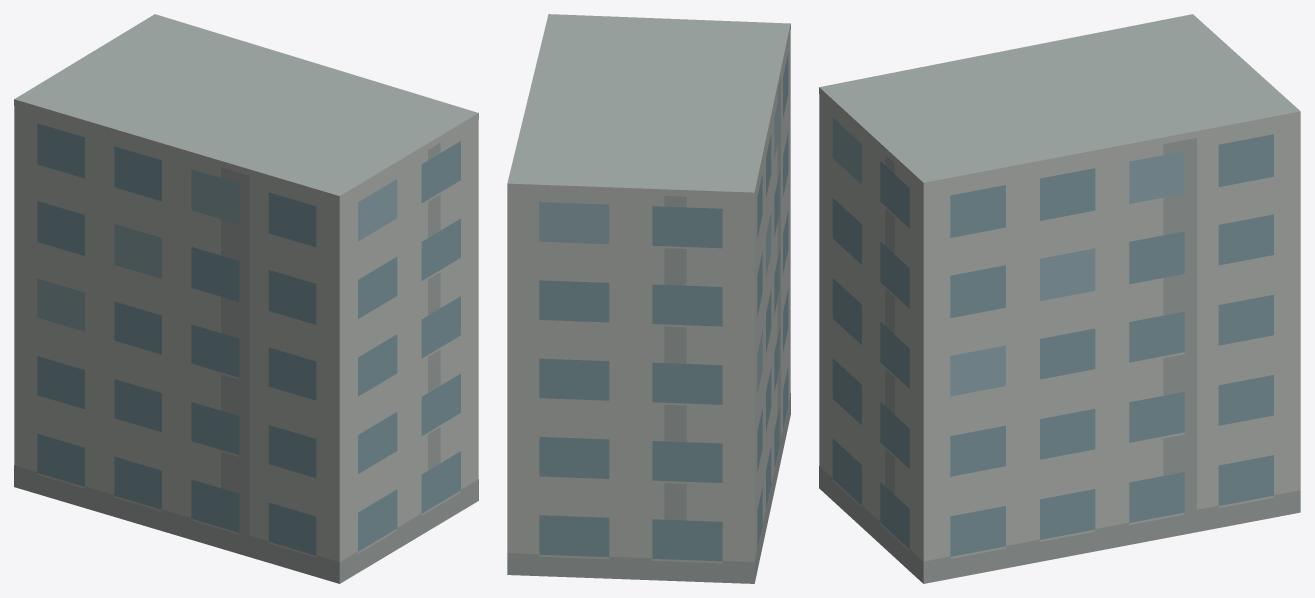
The model's file is survey-upis-32696200.glb.
The picture shows the model from 3 angles, left to right: view 1: azimuth 30°, elevation 25°; view 2: azimuth 150°, elevation 25°; view 3: azimuth 270°, elevation 25°; orthographic projection. The views are drawn at different scales.
Visible parts, largest first — view 1: survey-upis-32696200.tmp; view 2: survey-upis-32696200.tmp; view 3: survey-upis-32696200.tmp.
Part boxes in pixels (x1,y1,x2,y2): survey-upis-32696200.tmp: (14, 14, 478, 583); survey-upis-32696200.tmp: (507, 14, 790, 583); survey-upis-32696200.tmp: (819, 14, 1300, 583).
Size of the model in its own units: 13.05 by 14.45 by 15.73.
